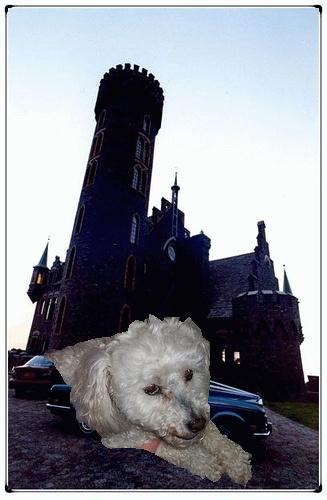tampered: (44, 315, 252, 488)
